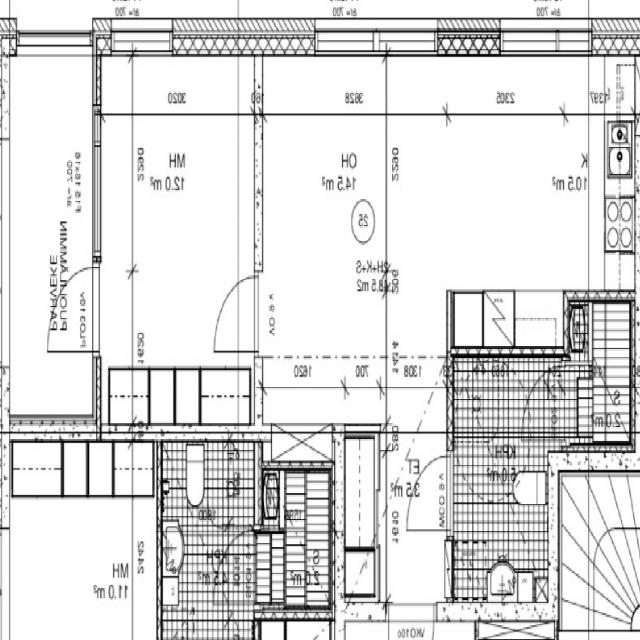door: (47, 266, 101, 351), (210, 270, 262, 352), (408, 456, 453, 529), (525, 365, 571, 436)
